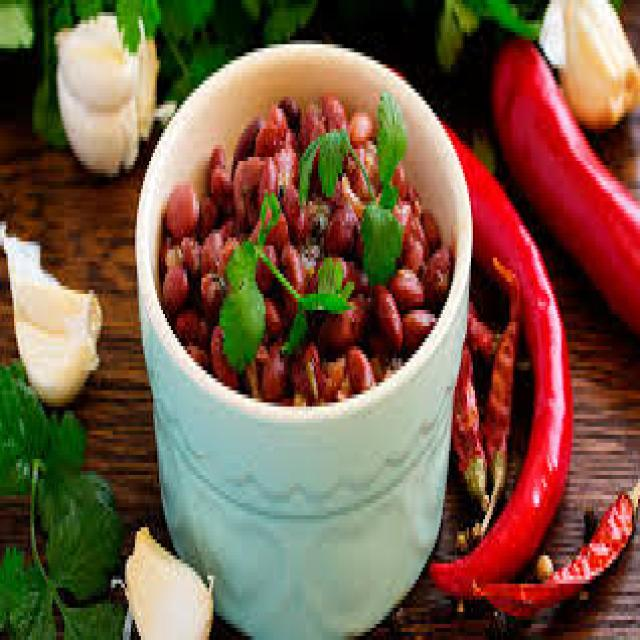Garlic: (0, 215, 104, 421), (46, 7, 157, 183), (119, 515, 225, 640), (531, 0, 640, 121)
hot pepper: (443, 142, 580, 630), (486, 38, 640, 342), (467, 471, 640, 620), (482, 251, 526, 515), (452, 342, 482, 508)
red beans: (154, 70, 449, 418)
